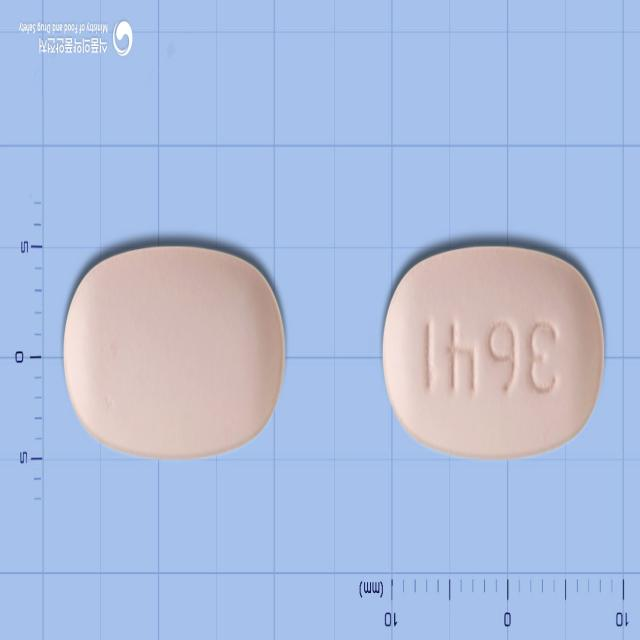Ciprocin - 259mg: (381, 244, 603, 461), (63, 246, 285, 462)
